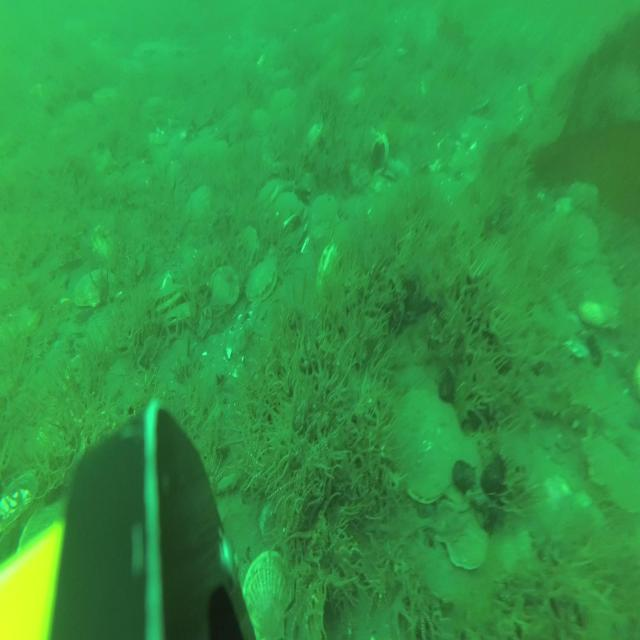holothurian: (530, 383, 606, 441)
scallop: (390, 392, 460, 503), (242, 546, 296, 636), (438, 437, 482, 507), (1, 470, 41, 537), (432, 478, 471, 540), (571, 264, 617, 316), (583, 434, 625, 486), (450, 512, 489, 568), (560, 209, 598, 266), (609, 452, 640, 518), (580, 295, 621, 338), (205, 265, 240, 315), (75, 268, 112, 312), (246, 260, 282, 304), (232, 226, 260, 274), (157, 303, 197, 336), (569, 176, 601, 217), (270, 189, 302, 228), (308, 193, 334, 236), (254, 172, 286, 206), (185, 188, 216, 222), (248, 108, 275, 141), (154, 287, 181, 318), (302, 118, 323, 156), (269, 86, 297, 113), (94, 83, 116, 110)
